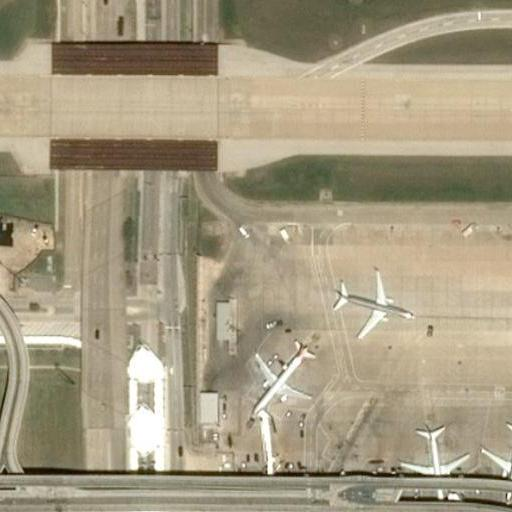Aircraft: (327, 270, 417, 339), (240, 341, 315, 416), (406, 420, 465, 488), (476, 414, 512, 495)
